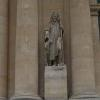Statue: (38, 8, 72, 75)
